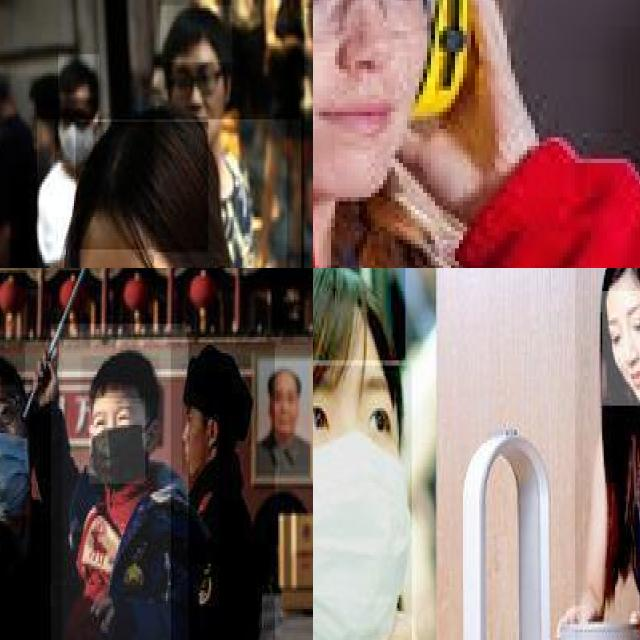Ear-protection: (313, 0, 470, 129)
No_Ear-Protection: (146, 411, 164, 457), (205, 414, 219, 450)
face_mask: (313, 365, 411, 640), (89, 398, 145, 484), (0, 385, 30, 515), (55, 100, 96, 166)
face_nomask: (170, 52, 224, 144), (602, 290, 640, 408), (182, 404, 206, 473)
glasses: (313, 0, 444, 36), (0, 394, 18, 439)
hand_noglove: (333, 591, 432, 640), (551, 589, 604, 640)
head_nohelmet: (75, 122, 208, 252), (313, 268, 406, 362), (160, 4, 232, 61), (81, 356, 160, 404), (58, 54, 101, 100), (0, 342, 25, 395), (602, 268, 640, 291), (0, 73, 11, 127)
person: (313, 0, 583, 268), (313, 268, 440, 640), (50, 323, 188, 640), (37, 119, 302, 268), (153, 0, 288, 268), (170, 342, 276, 640), (0, 350, 63, 640), (0, 51, 57, 268)
